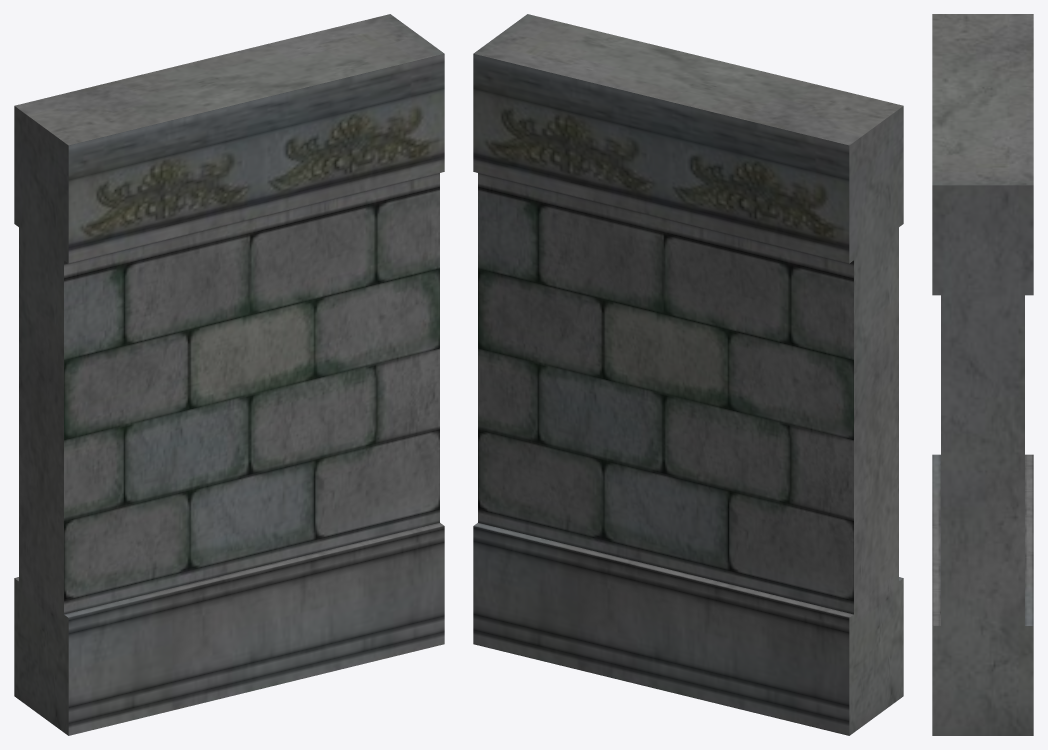
Rendered from wall_small_01.glb.
3 renders of one model, left to right at view 1: azimuth 30°, elevation 25°; view 2: azimuth 150°, elevation 25°; view 3: azimuth 270°, elevation 25°, orthographic. The views are drawn at different scales.
Visible parts, largest first — view 1: wall_small_01; view 2: wall_small_01; view 3: wall_small_01.
Part boxes in pixels (bbox=[...]): wall_small_01: bbox=[14, 14, 444, 735]; wall_small_01: bbox=[473, 14, 903, 735]; wall_small_01: bbox=[932, 14, 1033, 735].
Size of the model in its own units: 2 by 3 by 0.5.
Materials: 1 (1 with a texture image).
